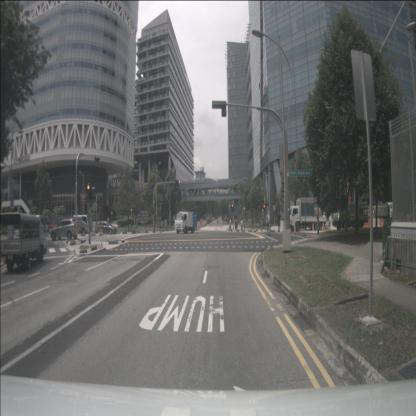barrier: (360, 216, 371, 228), (330, 218, 338, 230), (371, 218, 380, 228), (380, 218, 384, 228)
cone: (312, 222, 315, 232), (293, 224, 296, 234), (322, 222, 324, 231)
